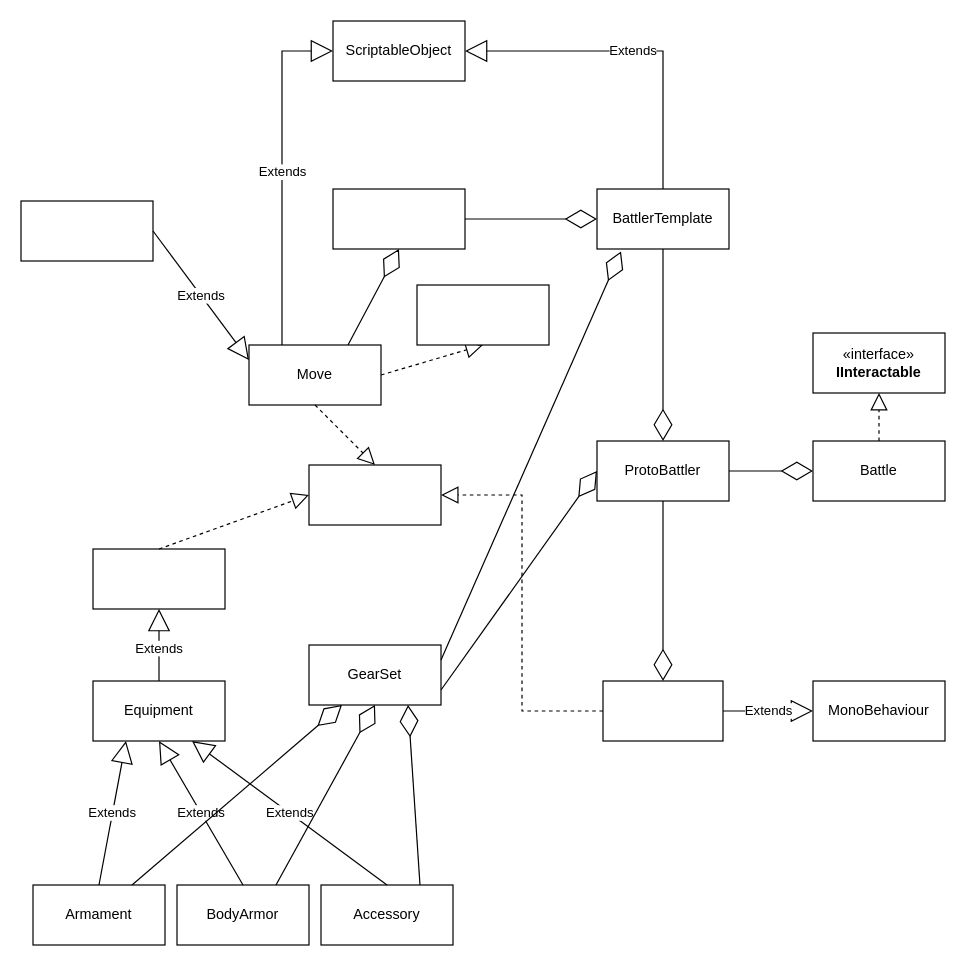
The diagram is 966 pixels wide and 966 high, and some of its shapes have lost their labels. Each missing label, with the box of its shape:
Battler: (602, 680, 723, 741)
DamageBolt: (20, 200, 153, 261)
Item: (92, 548, 225, 609)
LearnableMove: (332, 188, 465, 249)
«interface» IInvocable: (416, 284, 549, 345)
«interface» ISelectable: (308, 464, 441, 525)
